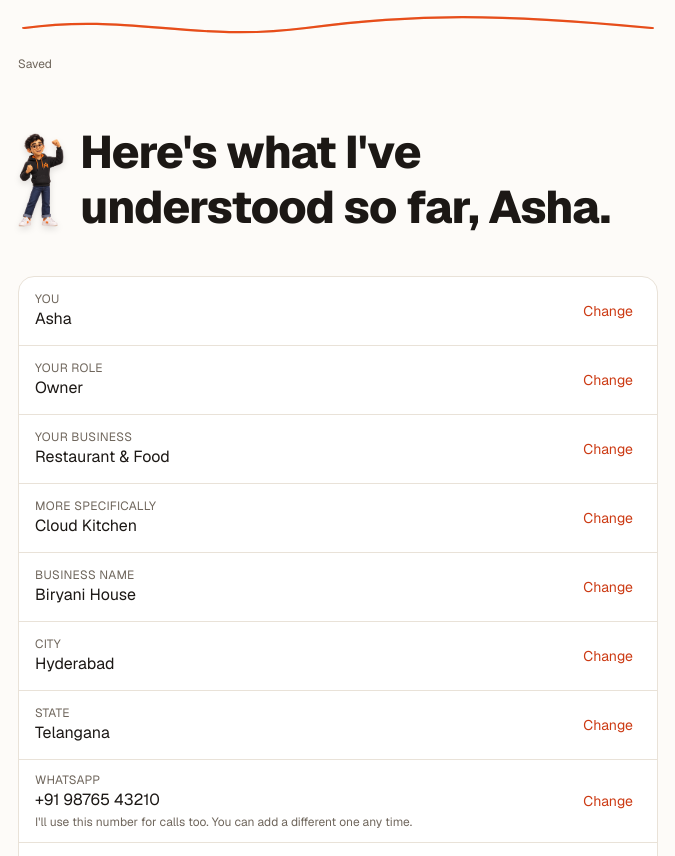
Scenario: ConversationShell › recap › lets the owner change one answer without restarting, and re-asks what depended on it
Click the button with aria-label "change your business" at (608, 449), box [575,427,641,471]
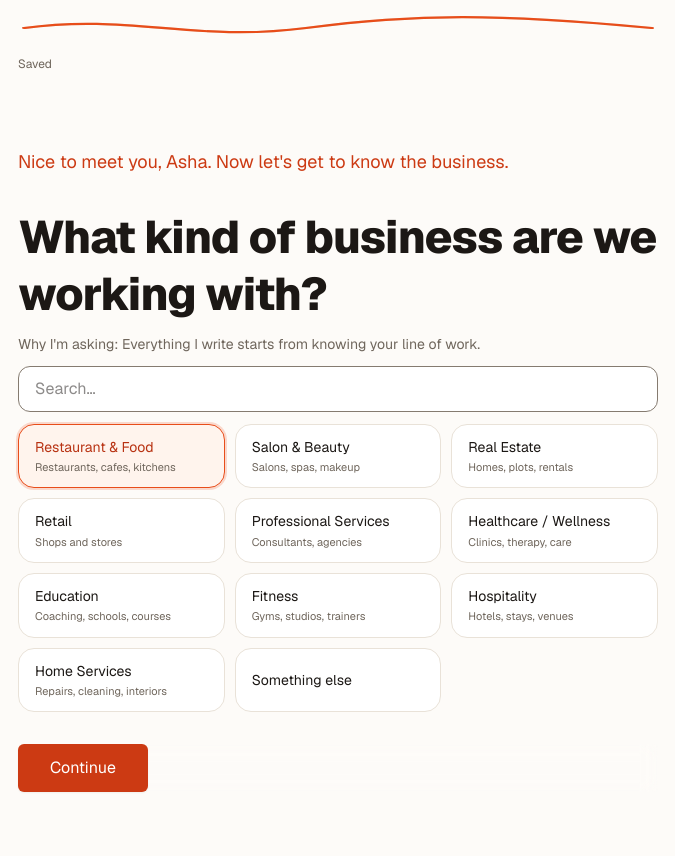
Click the radio button labelled "Fitness Gyms, studios, trainers" at (338, 605), box [235,573,441,638]
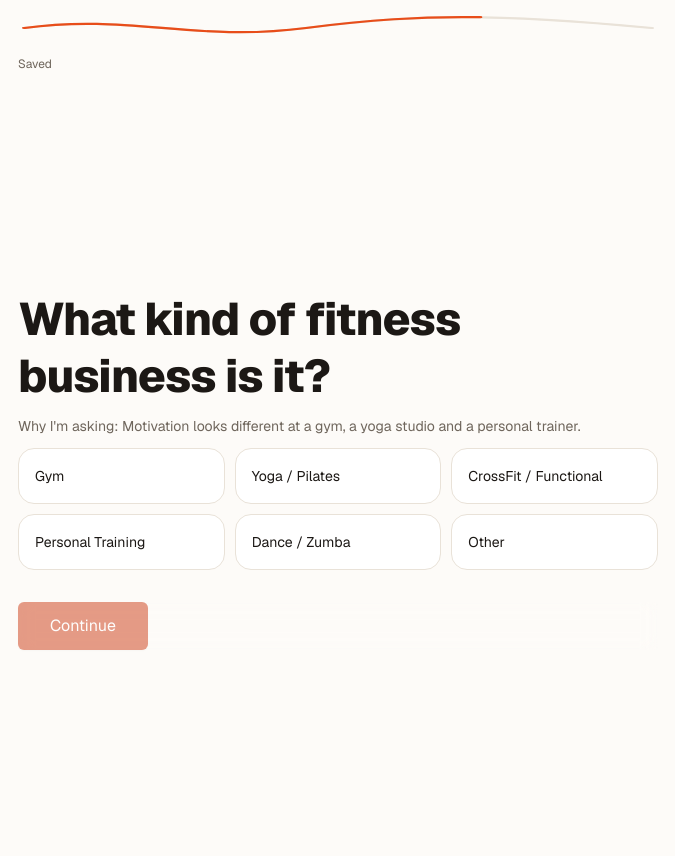
Check: the heading "What kind of fitness business is it?" is shown, box [18,289,460,405]
